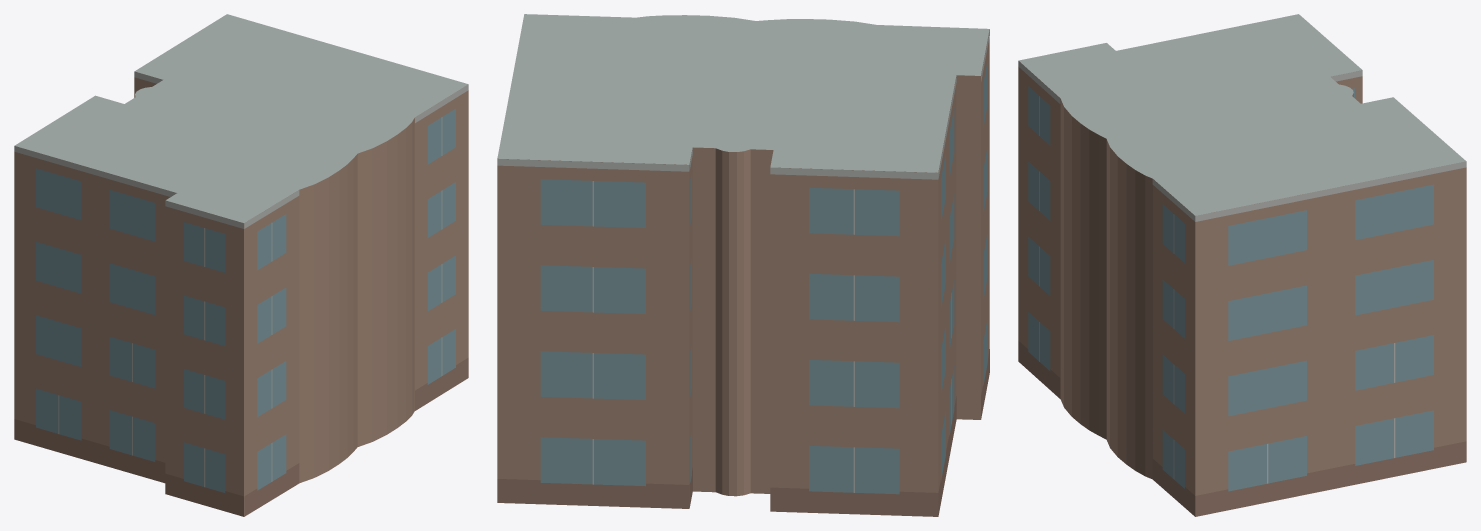
File: survey-upis-32730264.glb
3 views of the same model, side by side, from view 1: azimuth 30°, elevation 25°; view 2: azimuth 150°, elevation 25°; view 3: azimuth 270°, elevation 25° (orthographic). The views are drawn at different scales.
Parts seen in each view (by area): view 1: survey-upis-32730264.tmp; view 2: survey-upis-32730264.tmp; view 3: survey-upis-32730264.tmp.
Boxes of the visible parts, left/top/right/bottom form: survey-upis-32730264.tmp: left=14, top=14, right=468, bottom=516; survey-upis-32730264.tmp: left=497, top=14, right=989, bottom=516; survey-upis-32730264.tmp: left=1018, top=14, right=1466, bottom=516.
Bounding box in the file's own units: 17.57 × 12.2 × 16.47.
